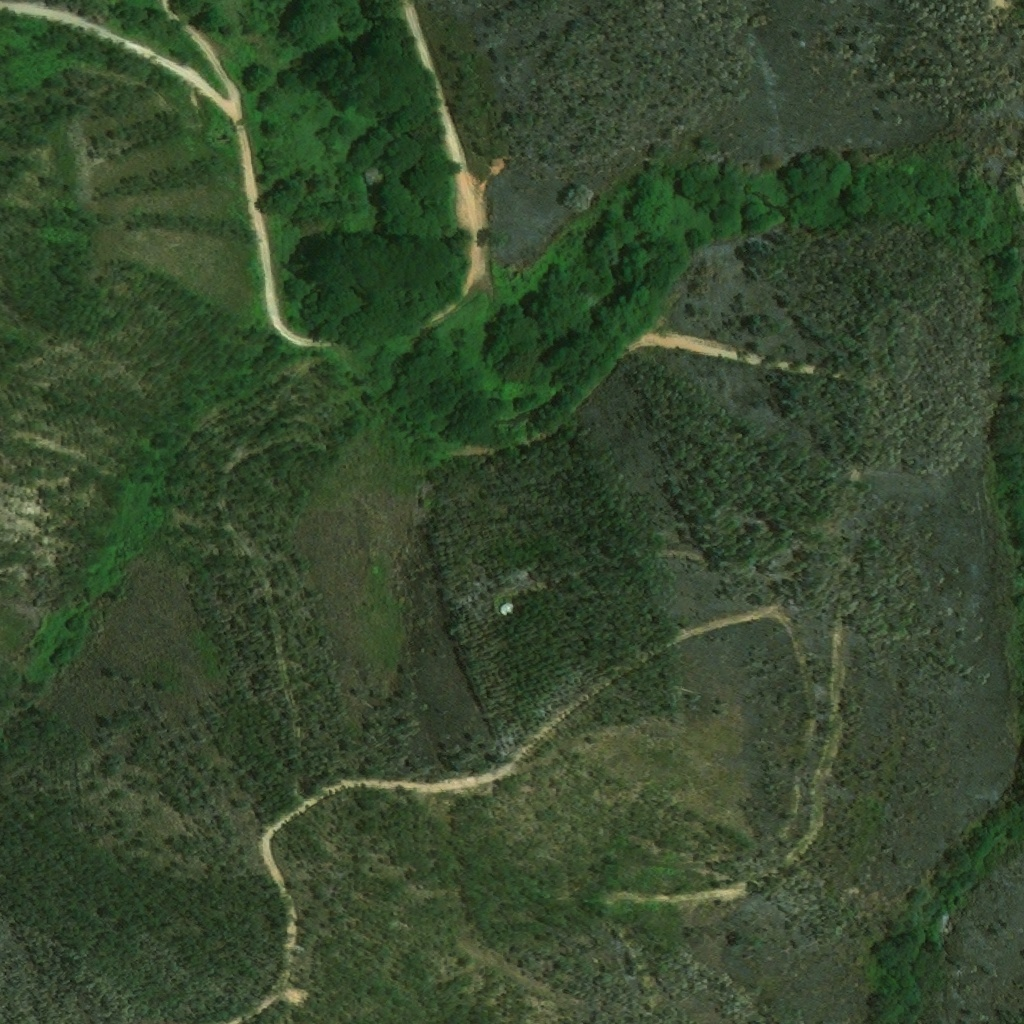0 no-damage: (359, 163, 384, 192), (496, 604, 514, 619)
